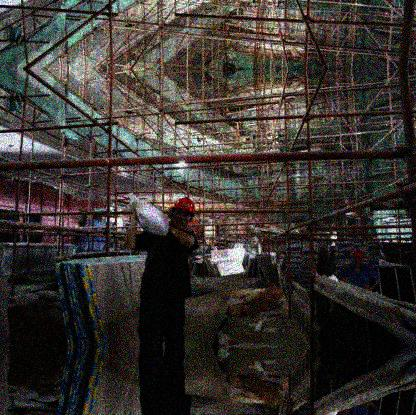helmet: (171, 196, 196, 231), (352, 250, 364, 266)
